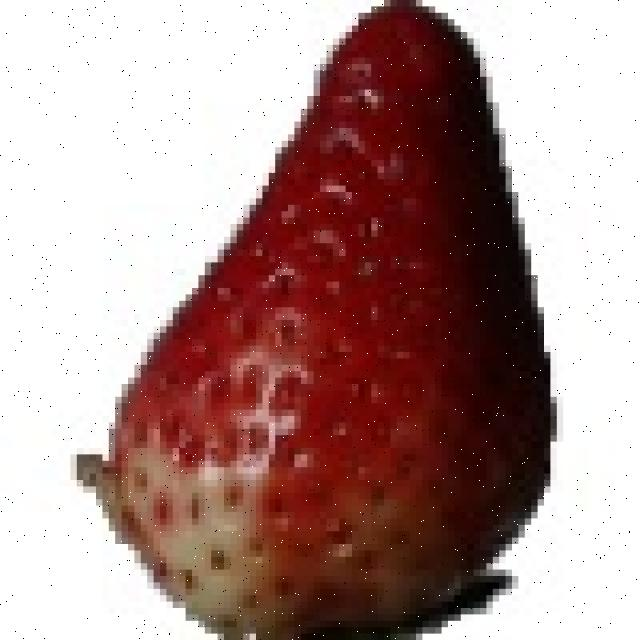Strawberry: (81, 2, 575, 637)
